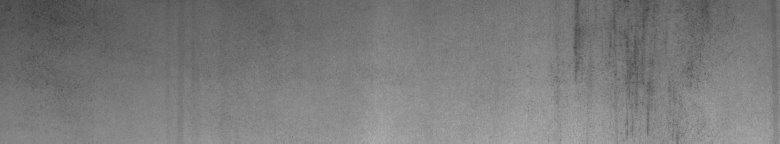ka: (568, 4, 708, 136)
